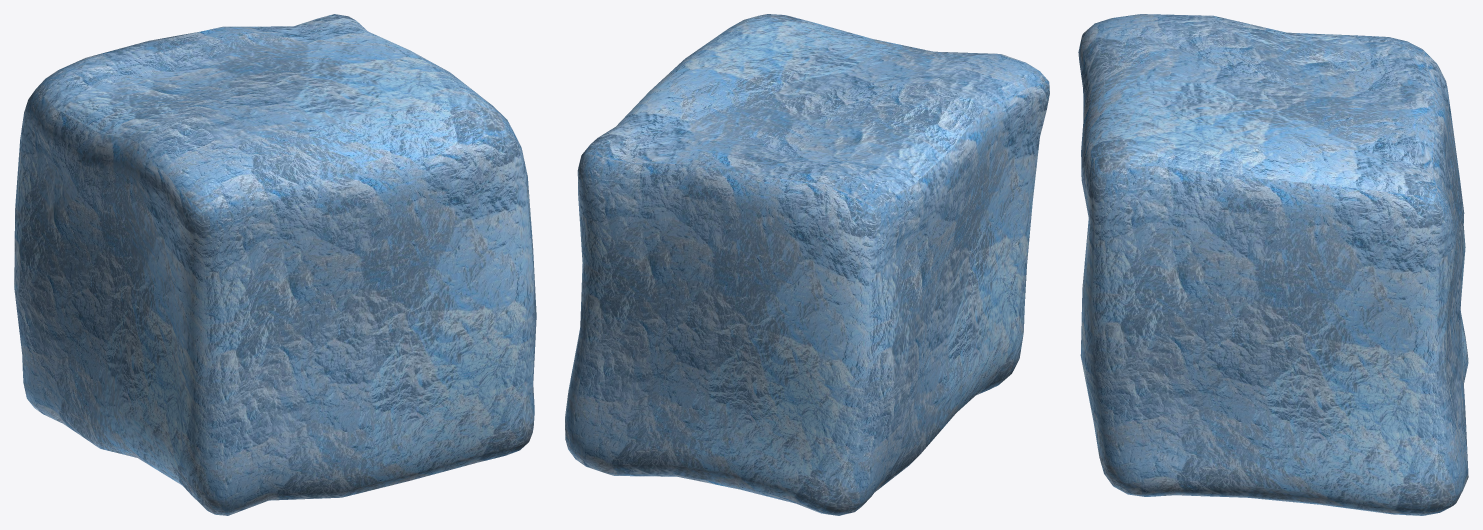
File: ice_01_.FBX
The picture shows the model from 3 angles, left to right: view 1: azimuth 30°, elevation 25°; view 2: azimuth 150°, elevation 25°; view 3: azimuth 270°, elevation 25°; orthographic projection. The views are drawn at different scales.
Parts seen in each view (by area): view 1: ice_01_; view 2: ice_01_; view 3: ice_01_.
Part boxes in pixels (x1,y1,x2,y2): ice_01_: (14,14,536,515); ice_01_: (565,14,1049,515); ice_01_: (1078,14,1468,515).
Size of the model in its own units: 26.76 by 27.77 by 26.76.
